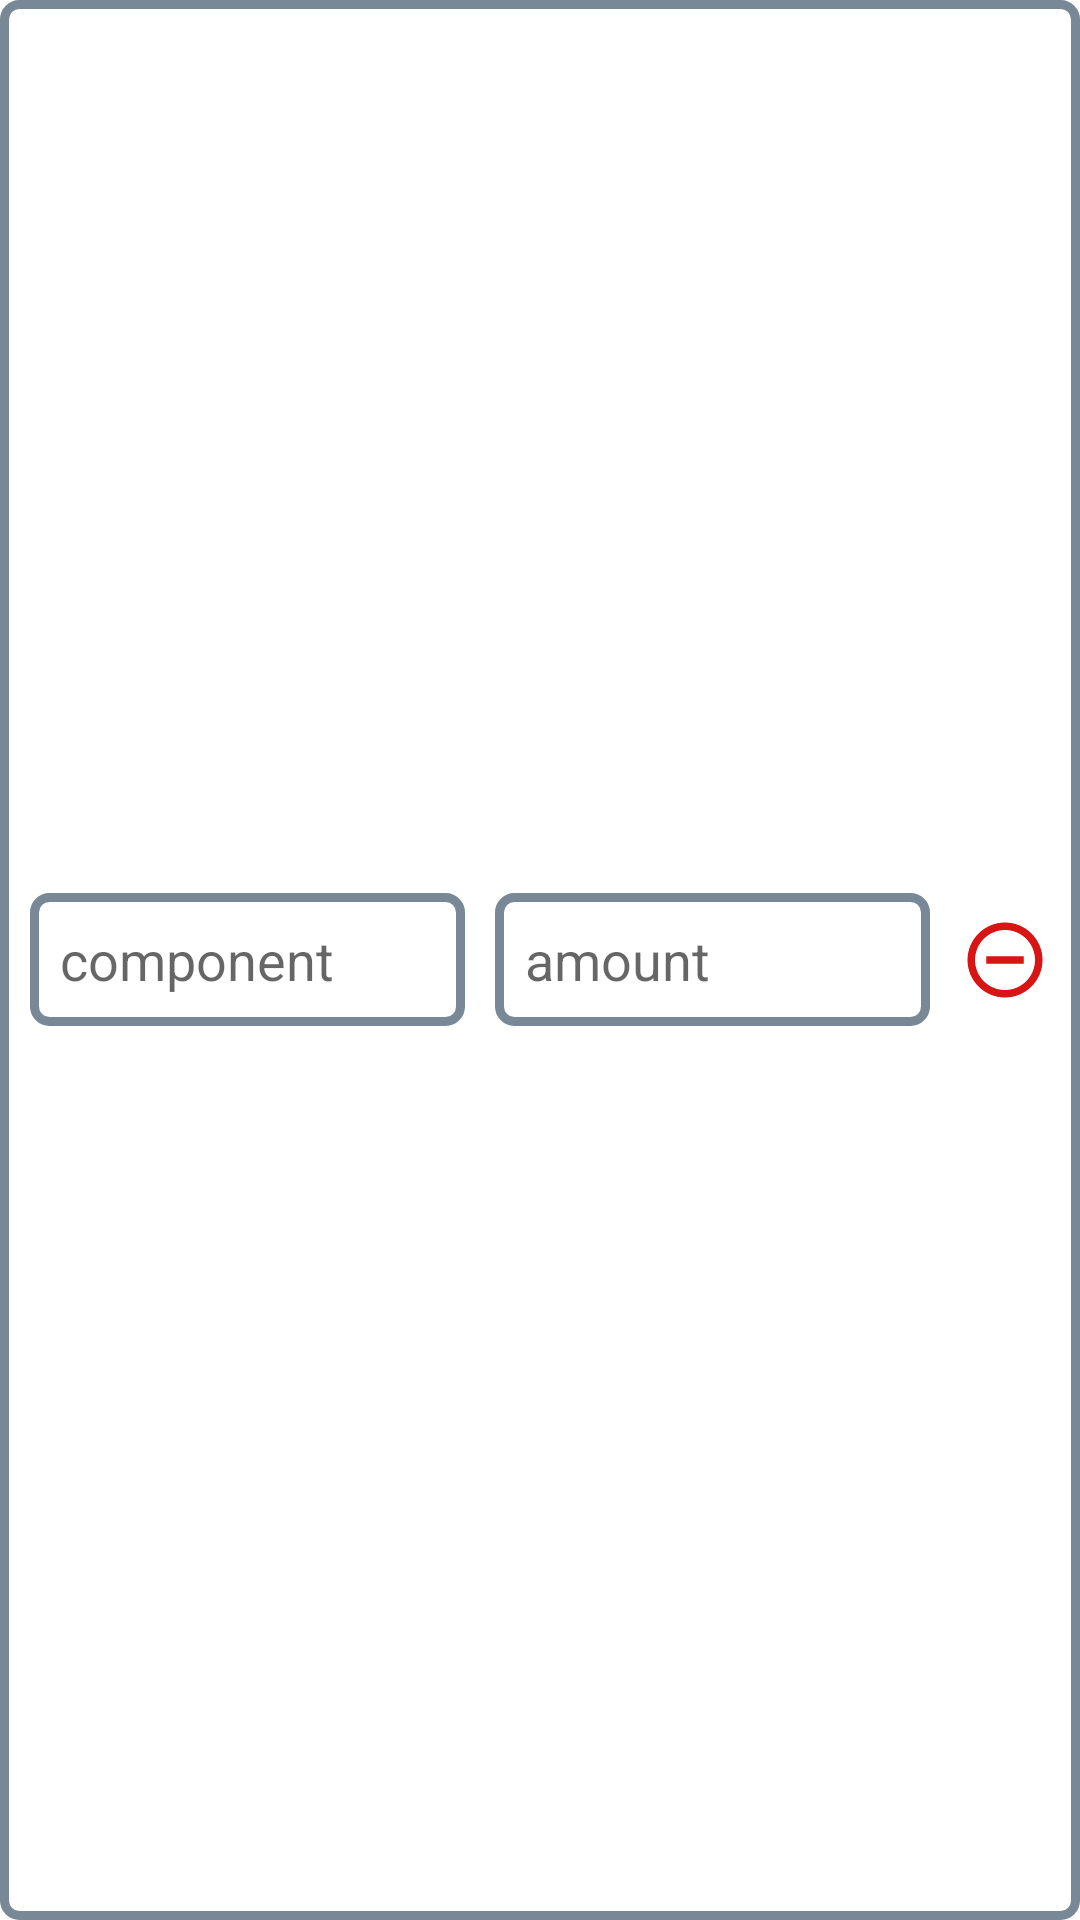

Where icons sit on this 1080×1920 app screen, as (x1, y1, x2, y2):
remove: (967, 922, 1043, 998)
